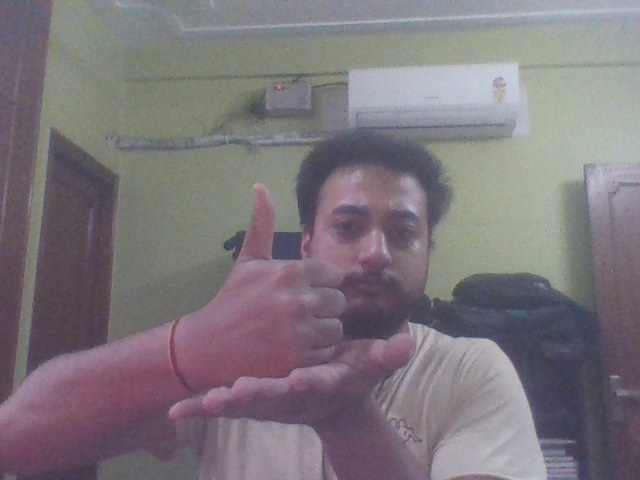Help: (175, 180, 414, 442)
